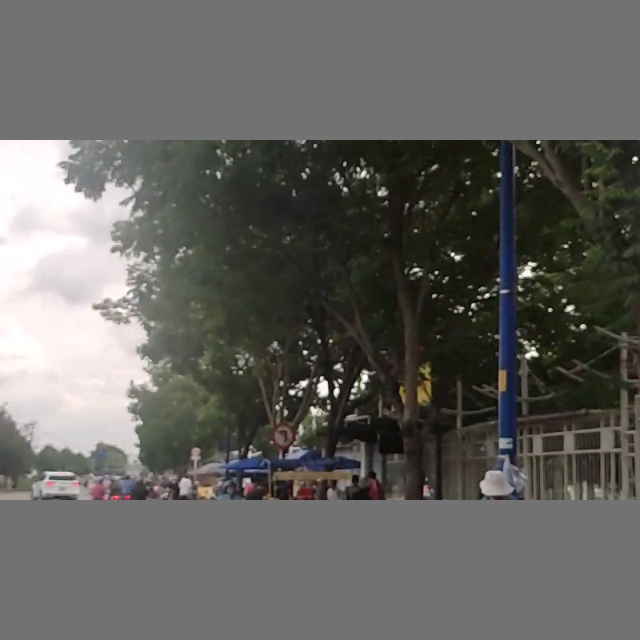P.123a: (272, 425, 294, 449)
